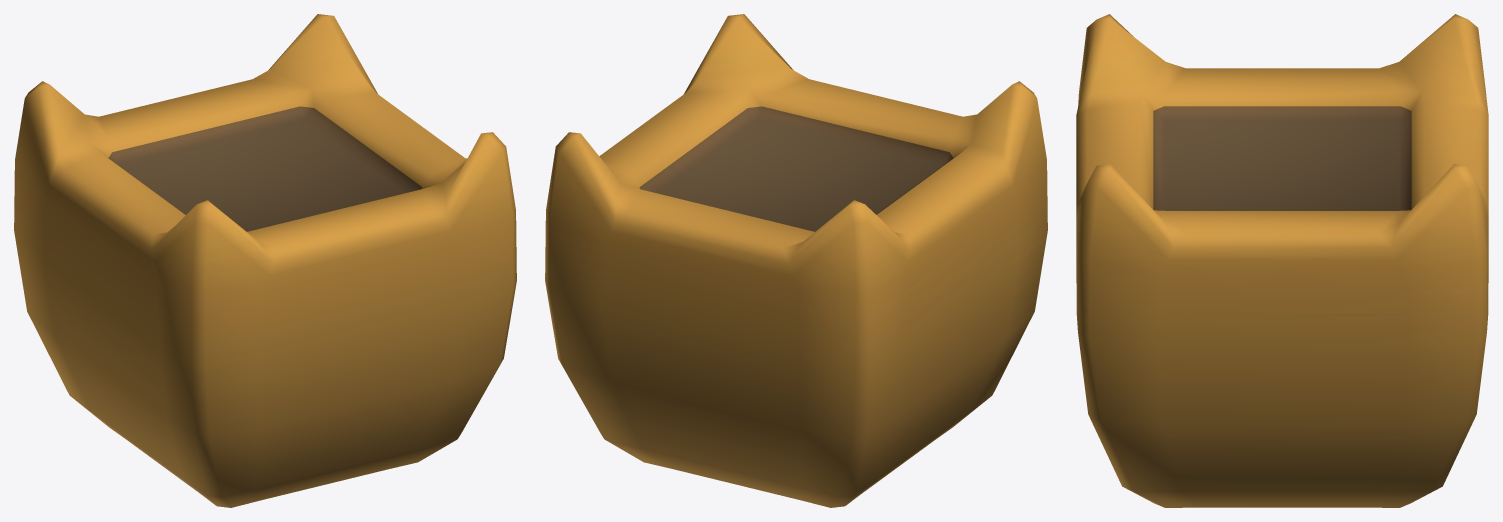
Rendered from PlantPot_CatEars2.fbx.
3 views of the same model, side by side, from view 1: azimuth 30°, elevation 25°; view 2: azimuth 150°, elevation 25°; view 3: azimuth 270°, elevation 25° (orthographic). The views are drawn at different scales.
Visible parts, largest first — view 1: PlantPot_CatEars2; view 2: PlantPot_CatEars2; view 3: PlantPot_CatEars2.
Boxes of the visible parts, bbox=[...] form: PlantPot_CatEars2: bbox=[14, 14, 516, 507]; PlantPot_CatEars2: bbox=[545, 14, 1047, 507]; PlantPot_CatEars2: bbox=[1076, 14, 1488, 507].
Size of the model in its own units: 55.9 by 55.24 by 55.9.
